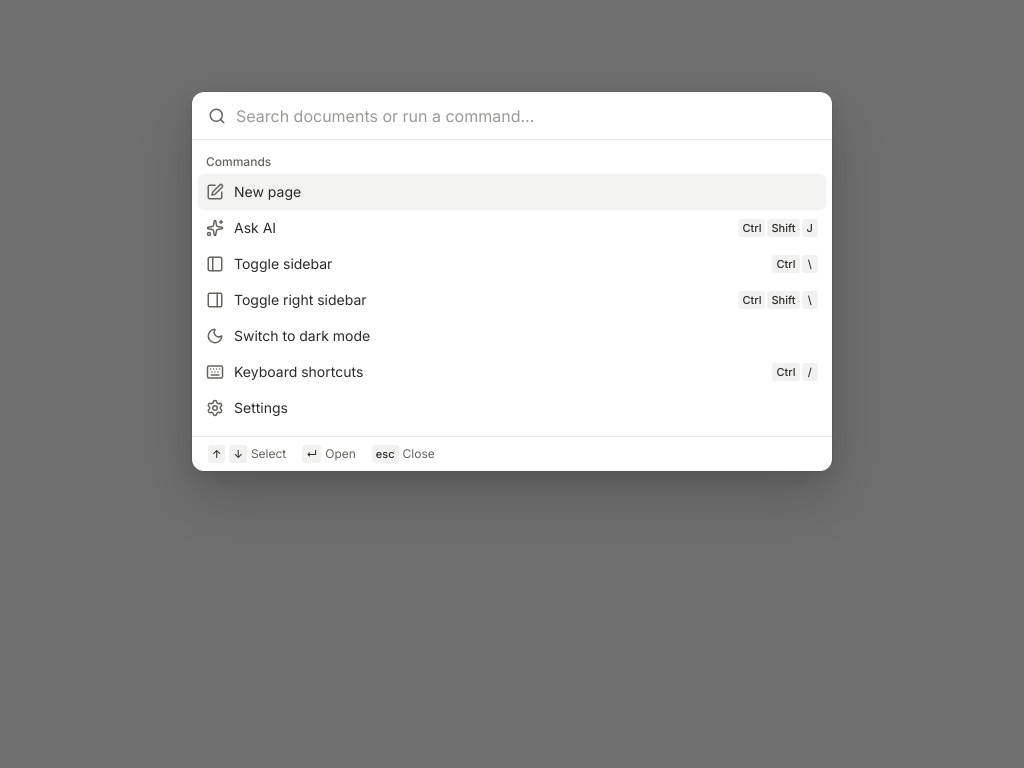
CommandPalette › keeps the open page in search results, marked as the current page
Type "open" into the dropdown at [526, 116], box [236, 104, 816, 128]
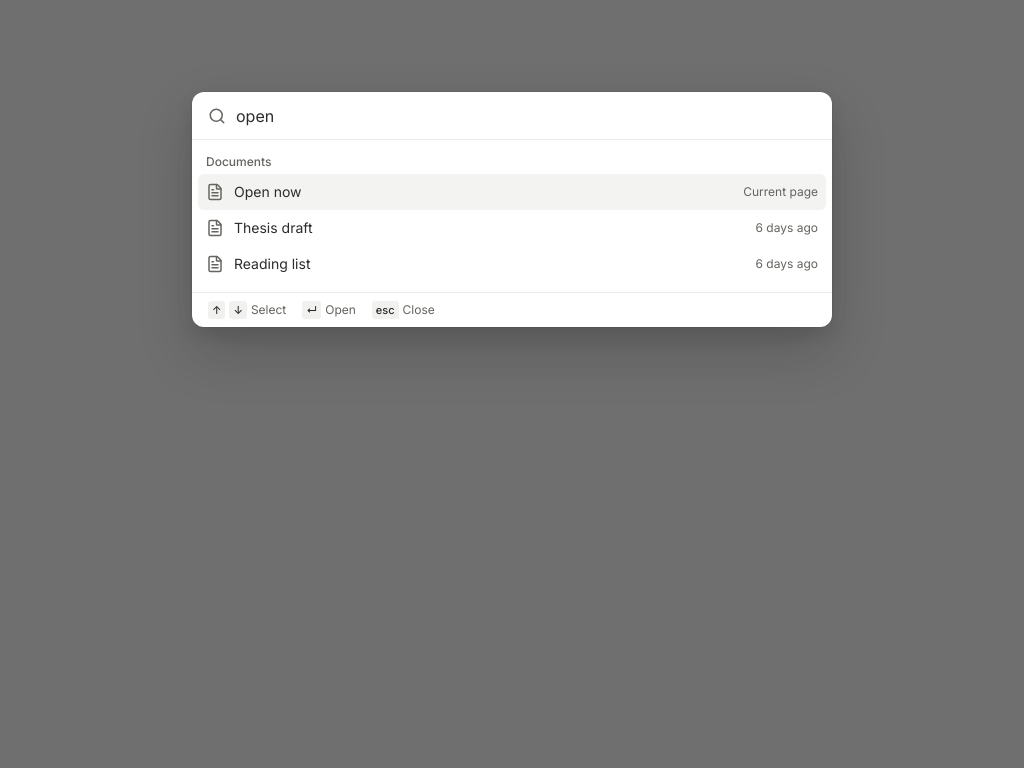
Now the option "Open now Current page" is shown, box [198, 174, 826, 210]
